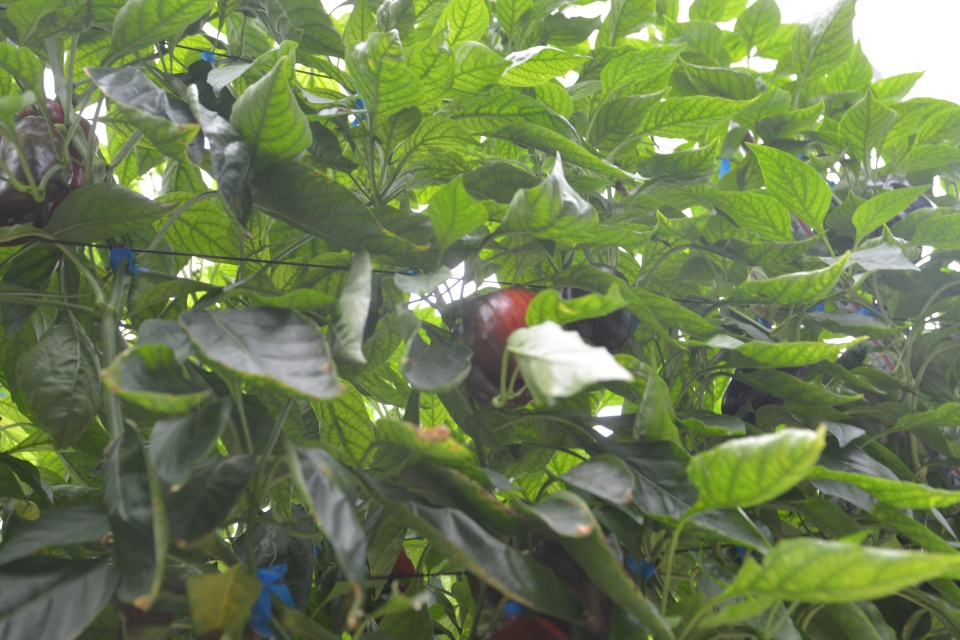fruit: (0, 96, 99, 249), (490, 538, 613, 640), (450, 286, 538, 410), (561, 261, 641, 355), (720, 362, 808, 428)
